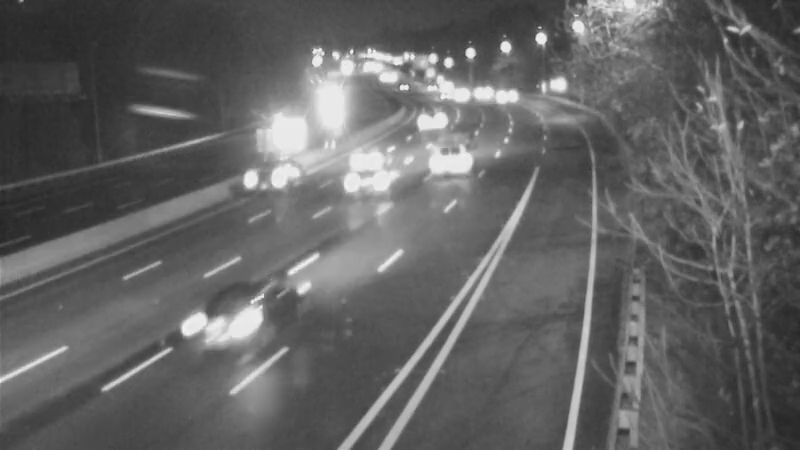vehicle: (165, 260, 275, 370), (323, 118, 403, 198), (326, 135, 406, 215), (244, 132, 324, 212), (475, 71, 525, 121), (405, 97, 455, 147), (434, 124, 484, 174), (256, 111, 306, 161)
